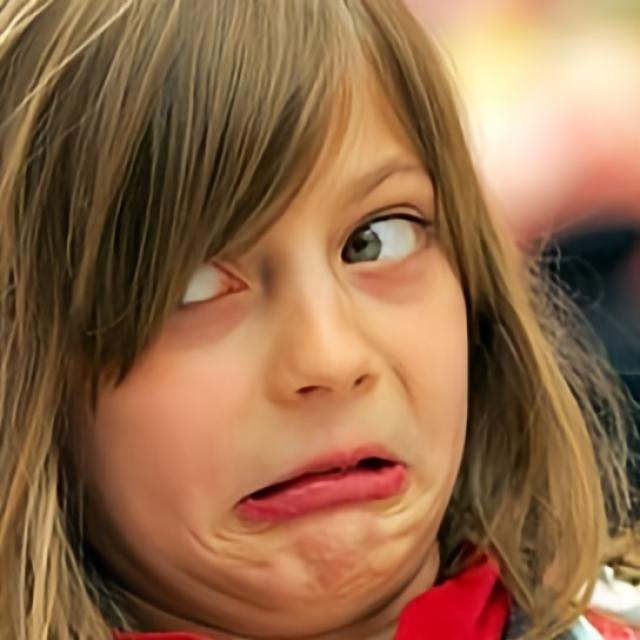disgust: (63, 0, 470, 640)
